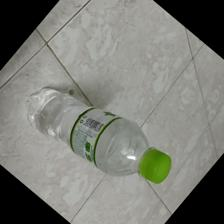Dasani: (24, 83, 172, 182)
